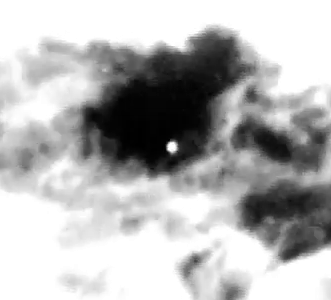Target: (166, 141, 178, 154)
